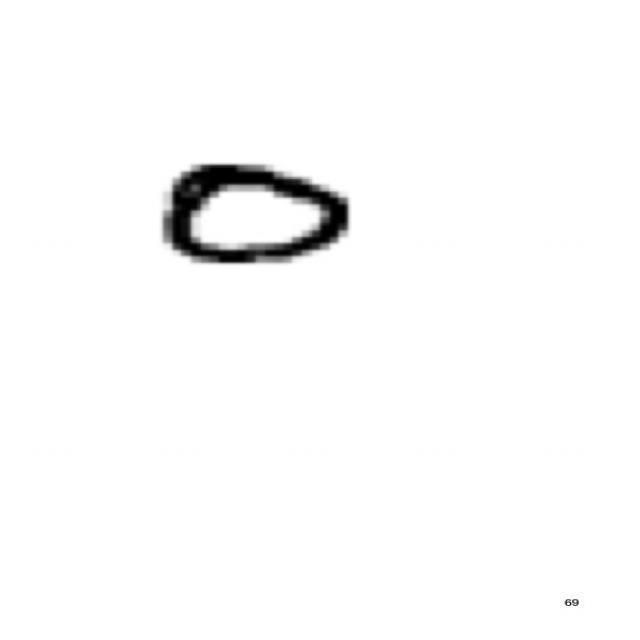5 -five-: (143, 156, 360, 272)
